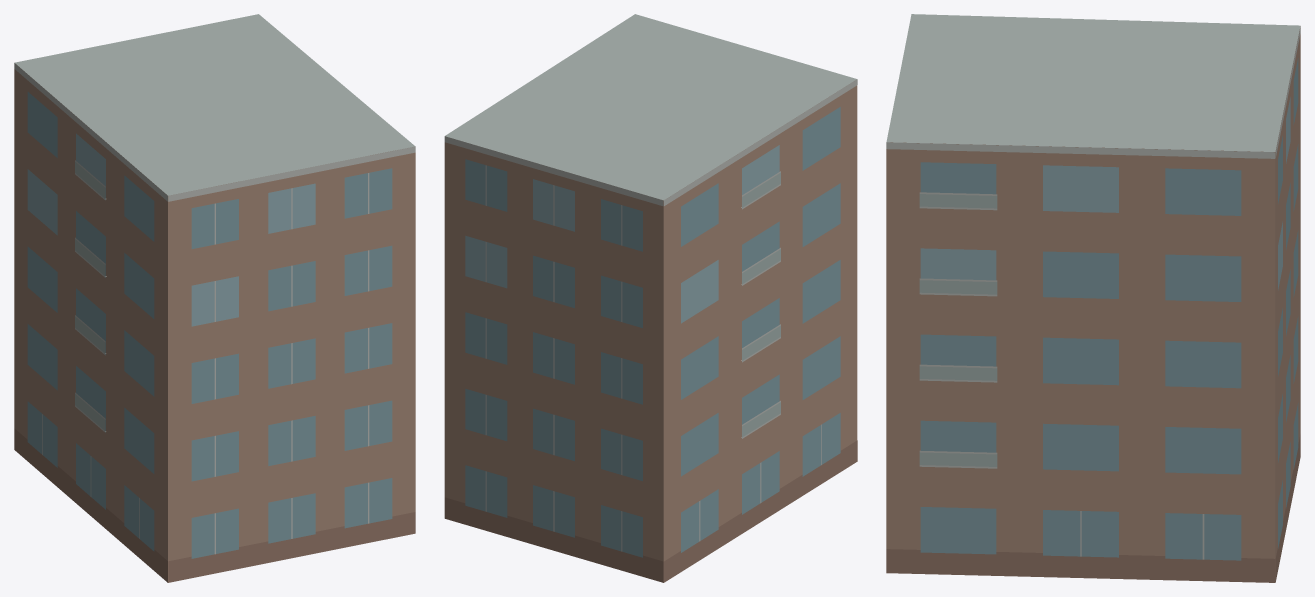
File: survey-upis-32601237.glb
3 renders of one model, left to right at view 1: azimuth 30°, elevation 25°; view 2: azimuth 150°, elevation 25°; view 3: azimuth 270°, elevation 25°, orthographic. The views are drawn at different scales.
Parts seen in each view (by area): view 1: survey-upis-32601237.tmp; view 2: survey-upis-32601237.tmp; view 3: survey-upis-32601237.tmp.
Boxes of the visible parts, x1=… form: survey-upis-32601237.tmp: x1=14, y1=14, x2=415, y2=582; survey-upis-32601237.tmp: x1=444, y1=14, x2=857, y2=582; survey-upis-32601237.tmp: x1=886, y1=14, x2=1300, y2=582.
Size of the model in its own units: 10.56 by 15.35 by 13.39.
